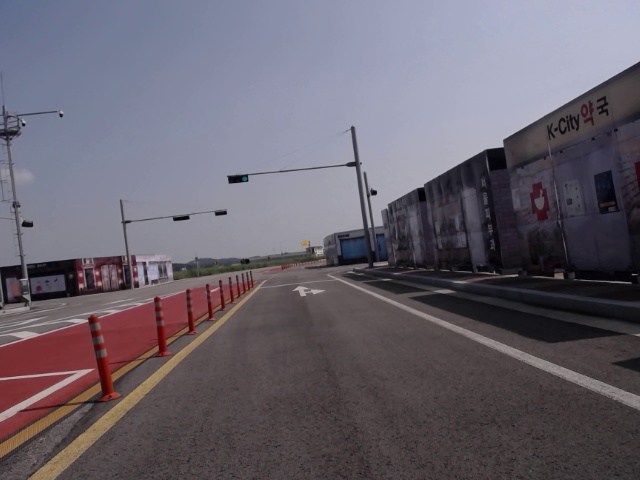green_3: (228, 174, 248, 183)
